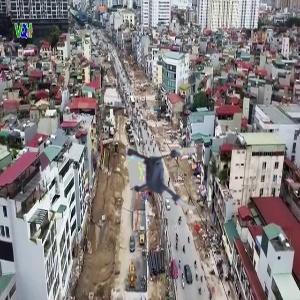drone: (130, 142, 207, 219)
